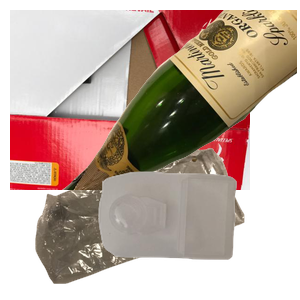cardboard: (10, 10, 250, 190)
glass: (60, 10, 300, 190)
plastic: (96, 169, 300, 300)
trash: (33, 145, 270, 300)
